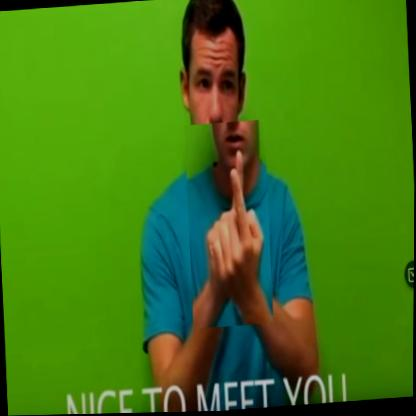NiceToMeetYou: (183, 121, 275, 330)
